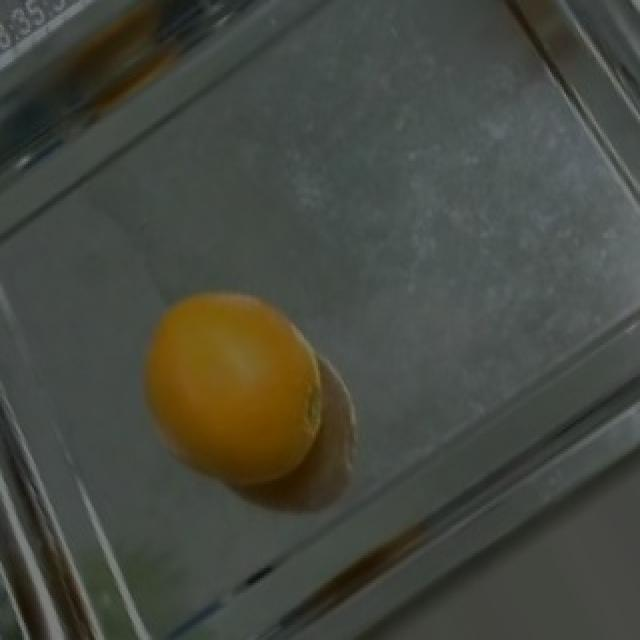Fruit: (116, 273, 346, 511)
